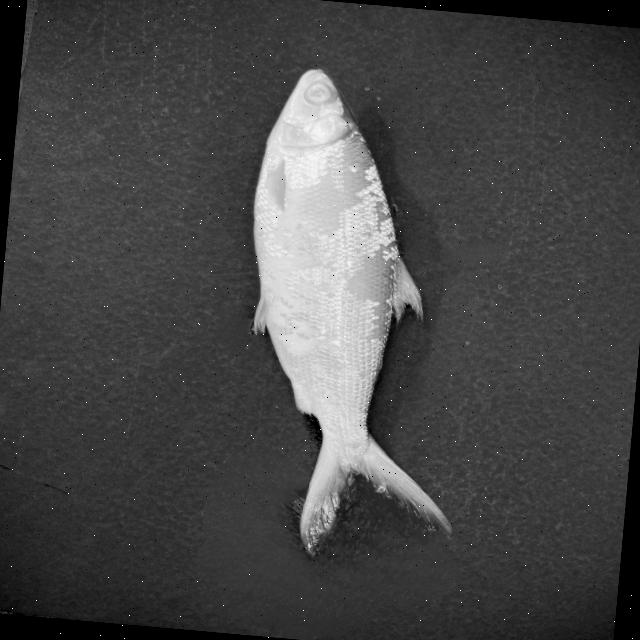655 g: (223, 62, 494, 564)
